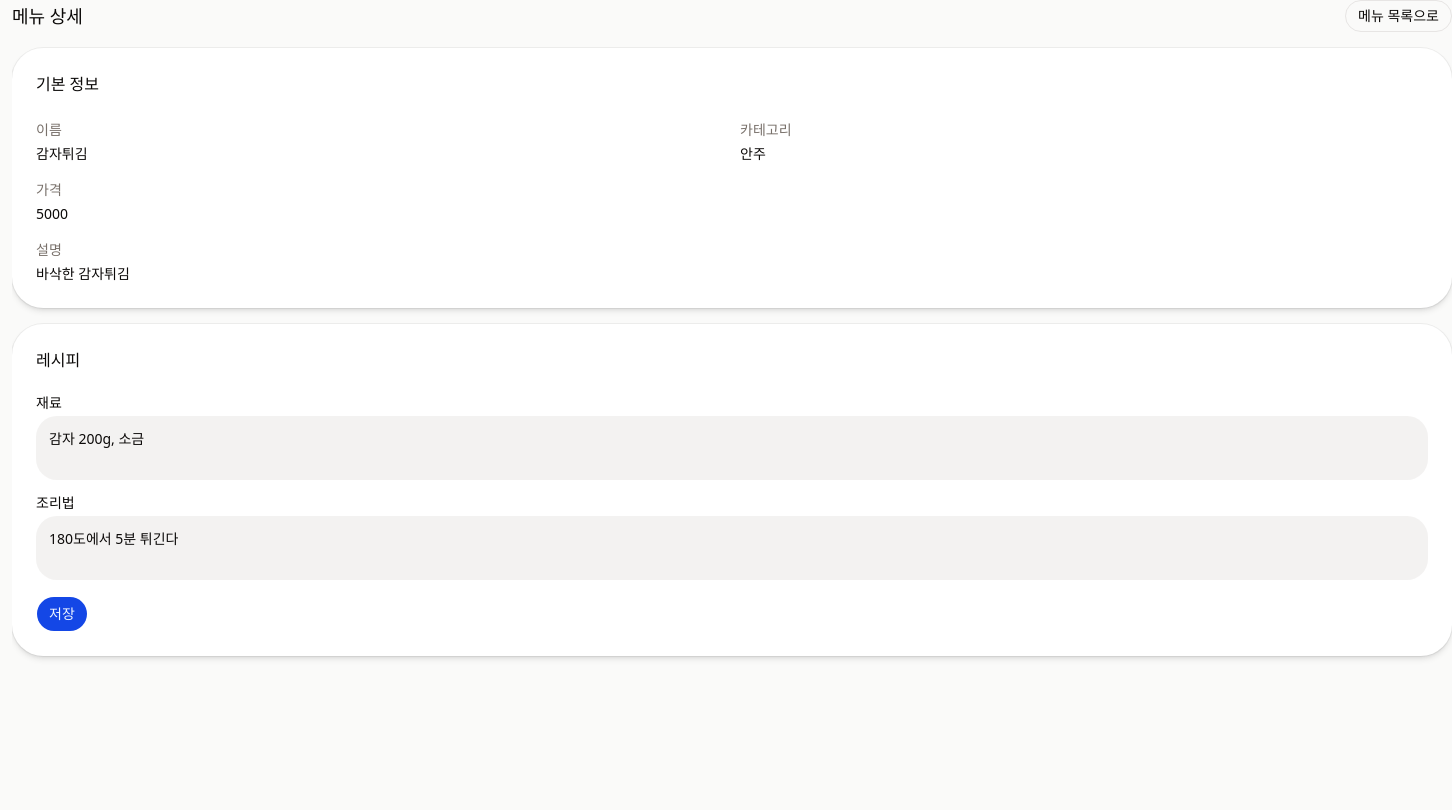
it: MenuItemDetailPage › shows a success message once the save succeeds
Click the button "저장". click: (62, 614)
box: [36,596,88,632]
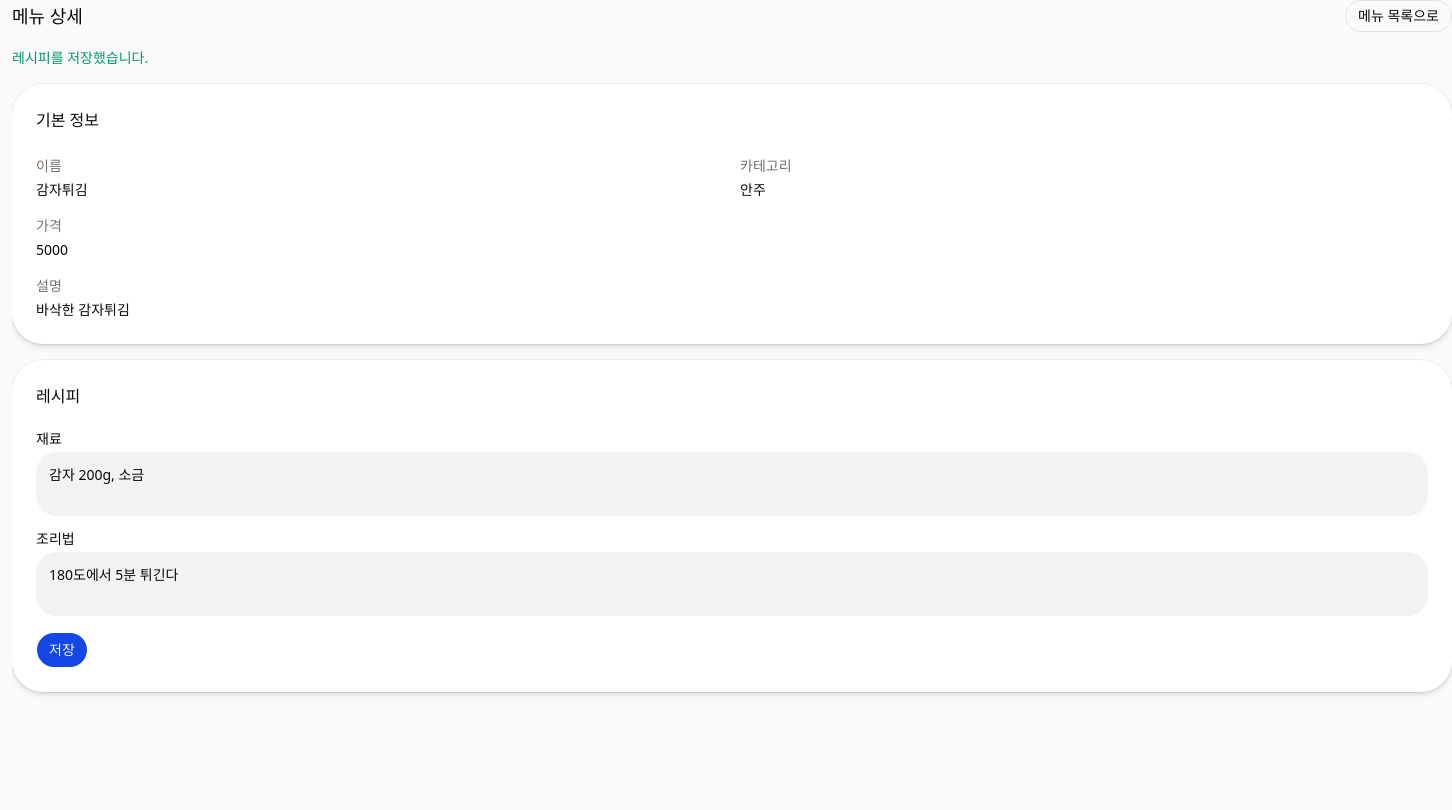
Result: the message "레시피를 저장했습니다." is shown at [12,48,148,67]
